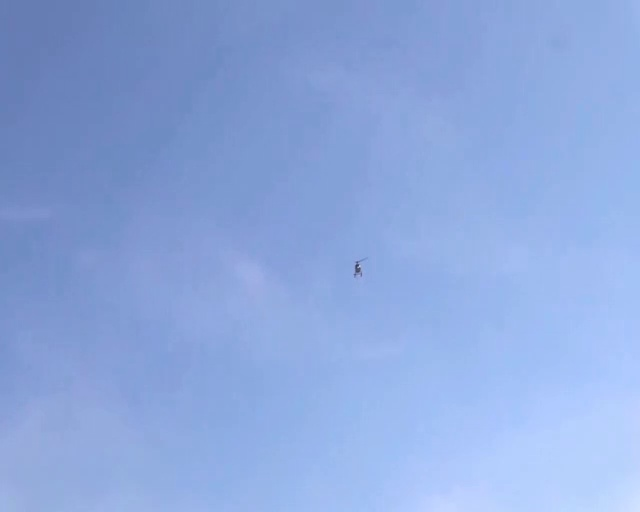HELICOPTER: (353, 257, 369, 278)
